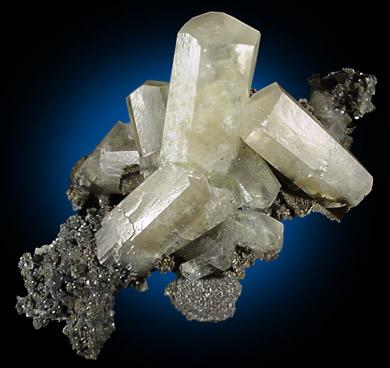calcite: (77, 12, 374, 280)
